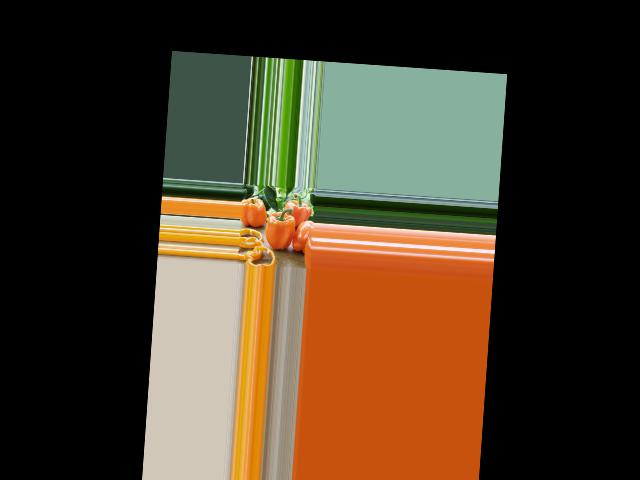bell_pepper: (292, 218, 313, 254)
